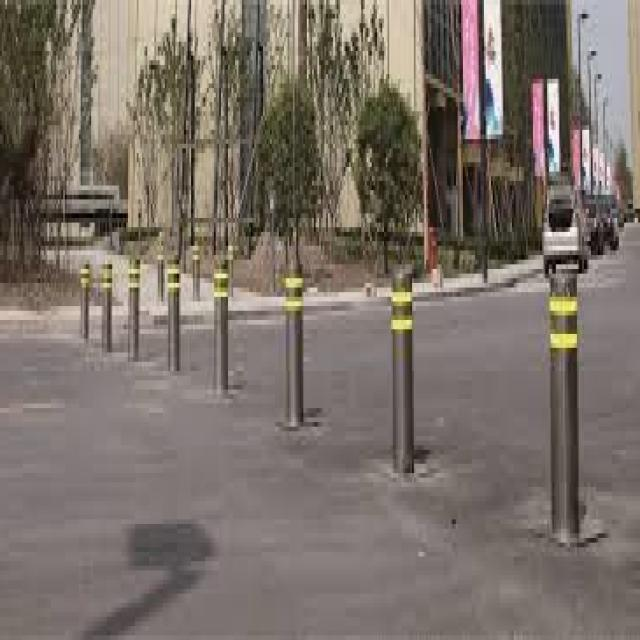bollard: (536, 247, 605, 557), (385, 240, 420, 480), (280, 256, 306, 436), (208, 250, 232, 401), (125, 245, 142, 367), (98, 242, 115, 361), (166, 258, 182, 374), (80, 248, 91, 345), (190, 235, 203, 309), (156, 224, 167, 309)
